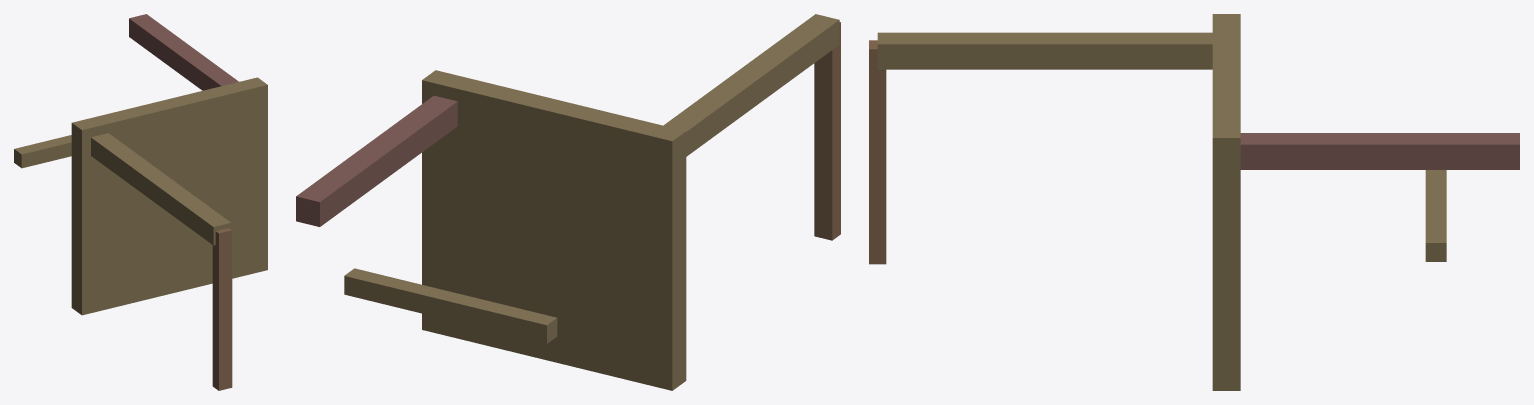
File: chair.glb
3 renders of one model, left to right at view 1: azimuth 30°, elevation 25°; view 2: azimuth 150°, elevation 25°; view 3: azimuth 270°, elevation 25°, orthographic. The views are drawn at different scales.
Visible parts, largest first — view 1: chair_seat, chair_backpost, chair_slat, chair_leg, chair_stretcher; view 2: chair_seat, chair_backpost, chair_leg, chair_stretcher, chair_slat; view 3: chair_backpost, chair_seat, chair_leg, chair_slat, chair_stretcher.
Part boxes in pixels (bbox=[...]): chair_seat: bbox=[71, 77, 267, 315]; chair_backpost: bbox=[91, 133, 231, 245]; chair_slat: bbox=[212, 228, 232, 390]; chair_leg: bbox=[129, 14, 238, 90]; chair_stretcher: bbox=[14, 135, 71, 168]; chair_seat: bbox=[422, 70, 686, 390]; chair_backpost: bbox=[663, 14, 839, 156]; chair_leg: bbox=[296, 95, 457, 226]; chair_stretcher: bbox=[344, 268, 557, 343]; chair_slat: bbox=[814, 22, 840, 240]; chair_backpost: bbox=[877, 32, 1212, 69]; chair_seat: bbox=[1212, 14, 1240, 390]; chair_leg: bbox=[1240, 133, 1519, 169]; chair_slat: bbox=[869, 40, 886, 264]; chair_stretcher: bbox=[1425, 170, 1446, 261].
Size of the model in its own units: 0.42 by 0.4 by 0.9325.
